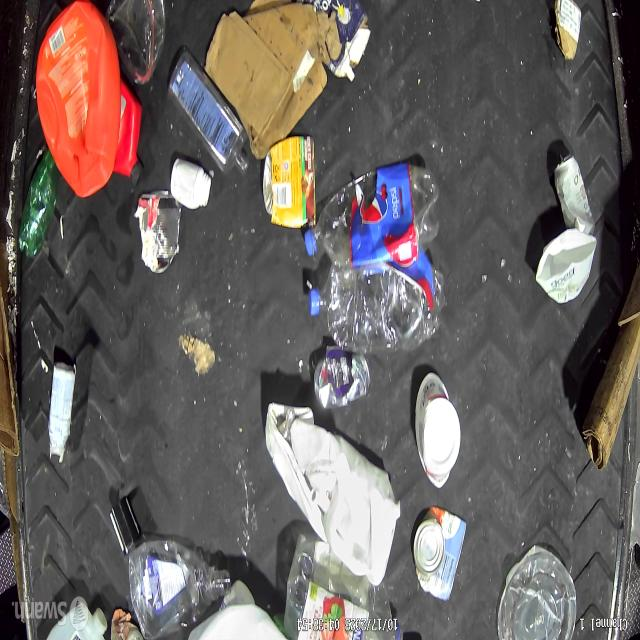can: (412, 508, 467, 601), (265, 135, 317, 229), (138, 189, 178, 273), (314, 352, 370, 408)
milk_jug: (307, 422, 399, 585)
non_white_jug: (36, 0, 121, 199)
plastic_bottle: (304, 160, 440, 270), (313, 242, 439, 354)
